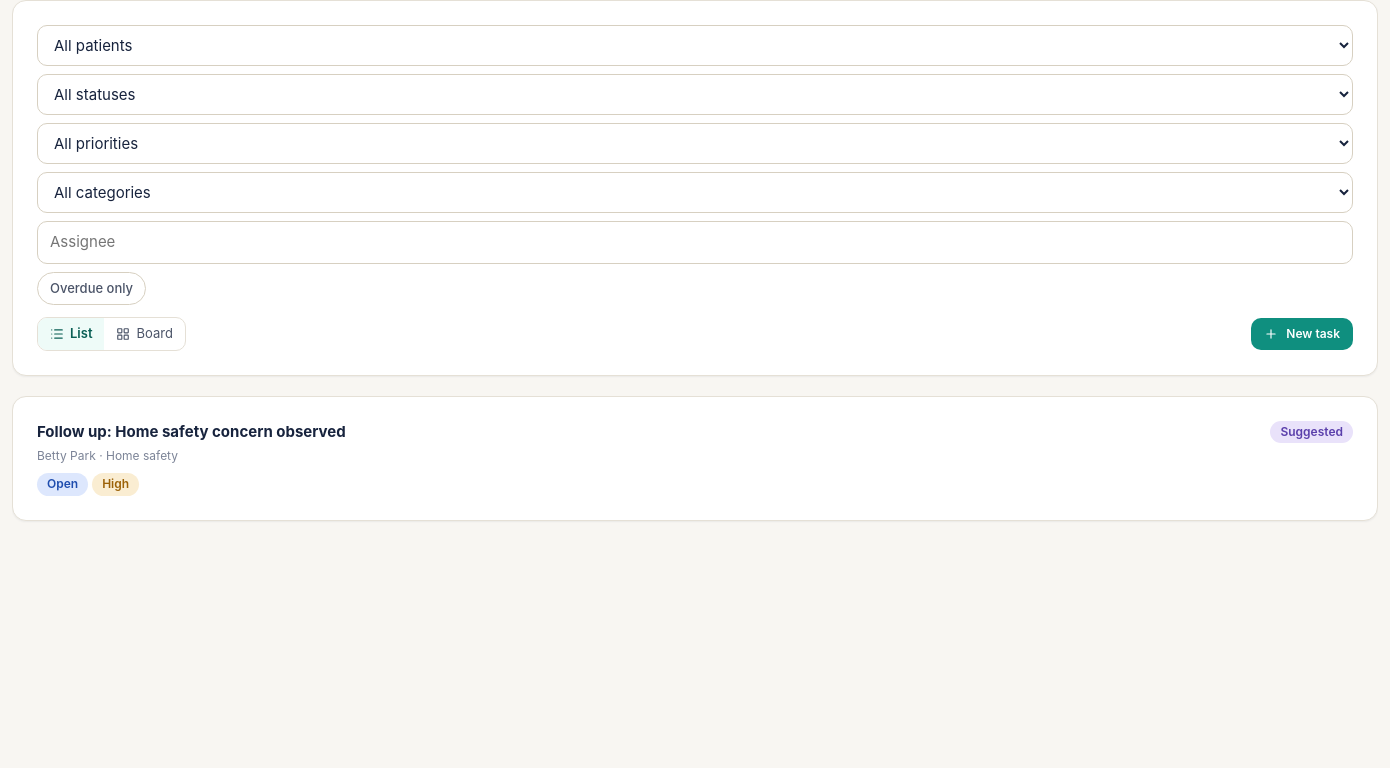
Test: ActionCenterPage › switching to board view groups tasks by status column
The width and height of the screenshot is (1390, 768).
expect the text "Follow up: Home safety concern observed" is shown: met, box [37,421,346,443]
Click the button "Board": (145, 334) [104,318,185,350]
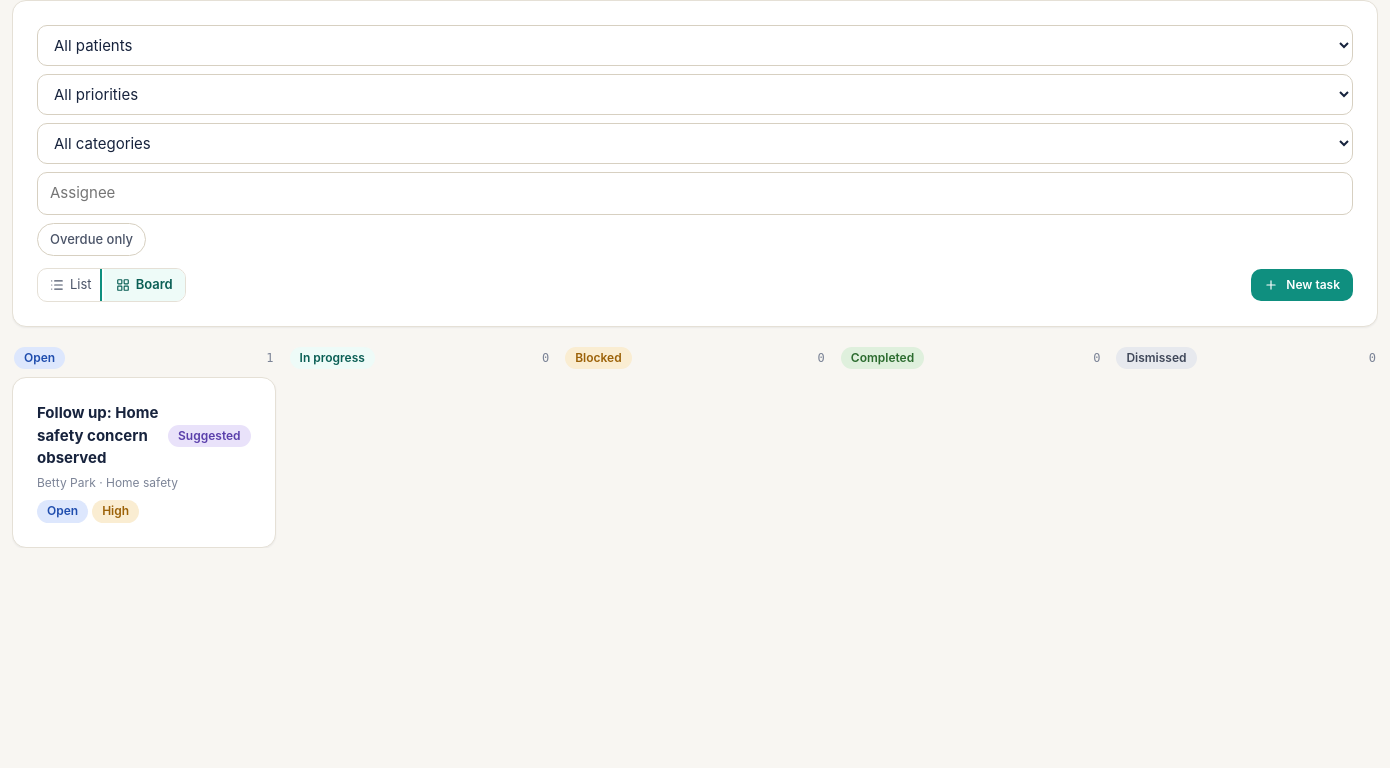
expect the text "Completed" is shown: met, box [841,346,924,369]
expect the text "Dismissed" is shown: met, box [1116,346,1196,369]
